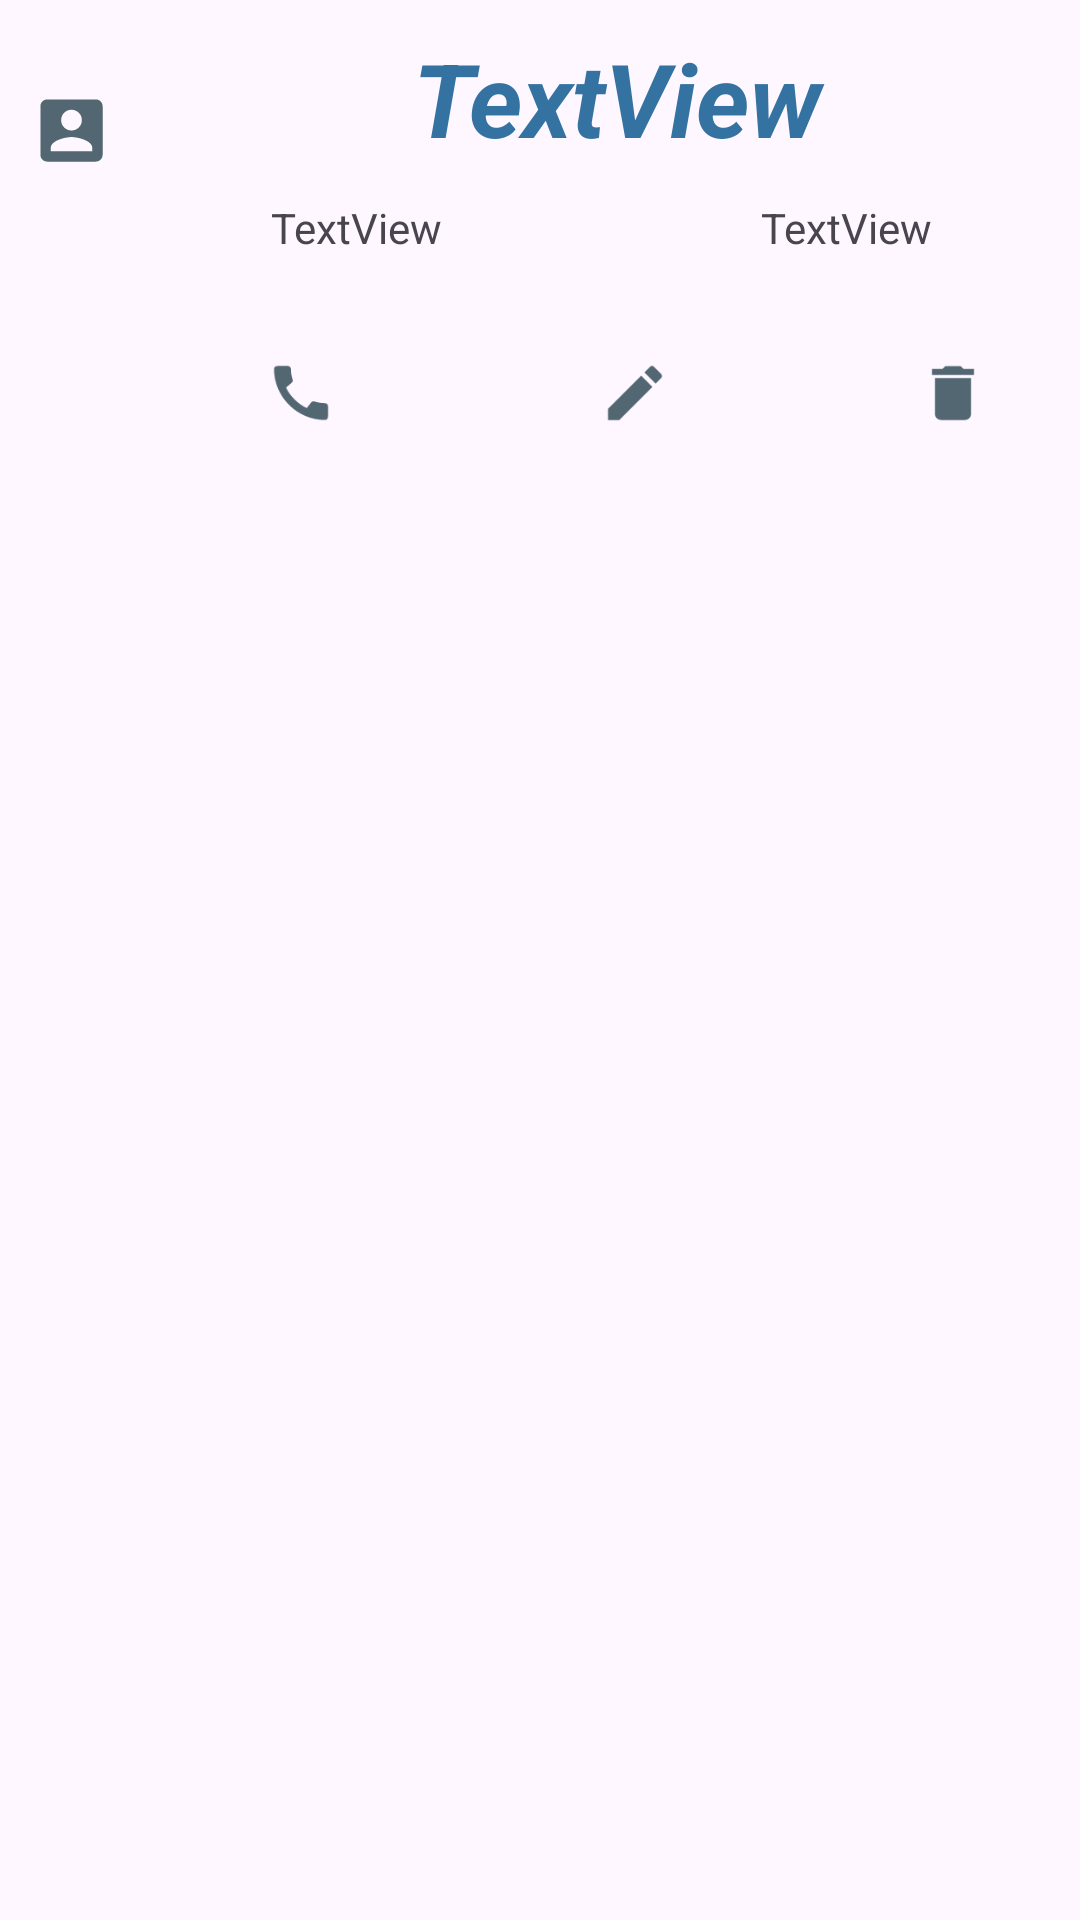

Screen size 1080×1920. Icon name, then its box in pixels as detection(x1, y1, x2, y2):
account box: detection(40, 99, 103, 162)
call: detection(273, 365, 329, 421)
editi: detection(607, 365, 663, 421)
